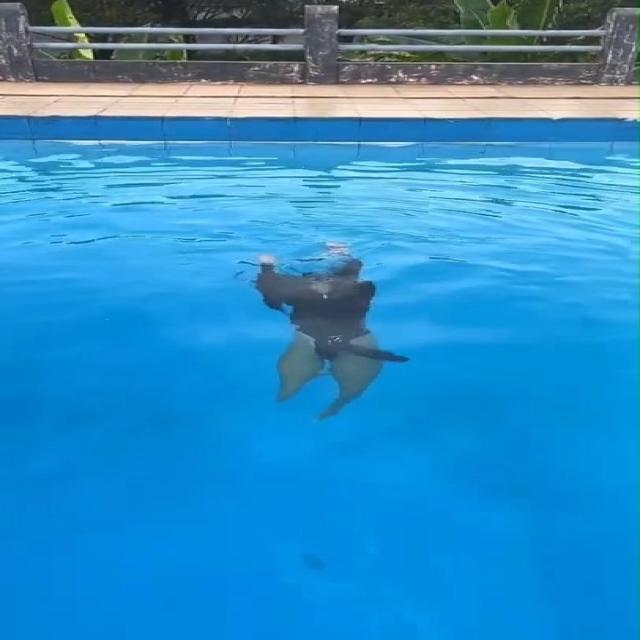drowning: (215, 226, 416, 425)
